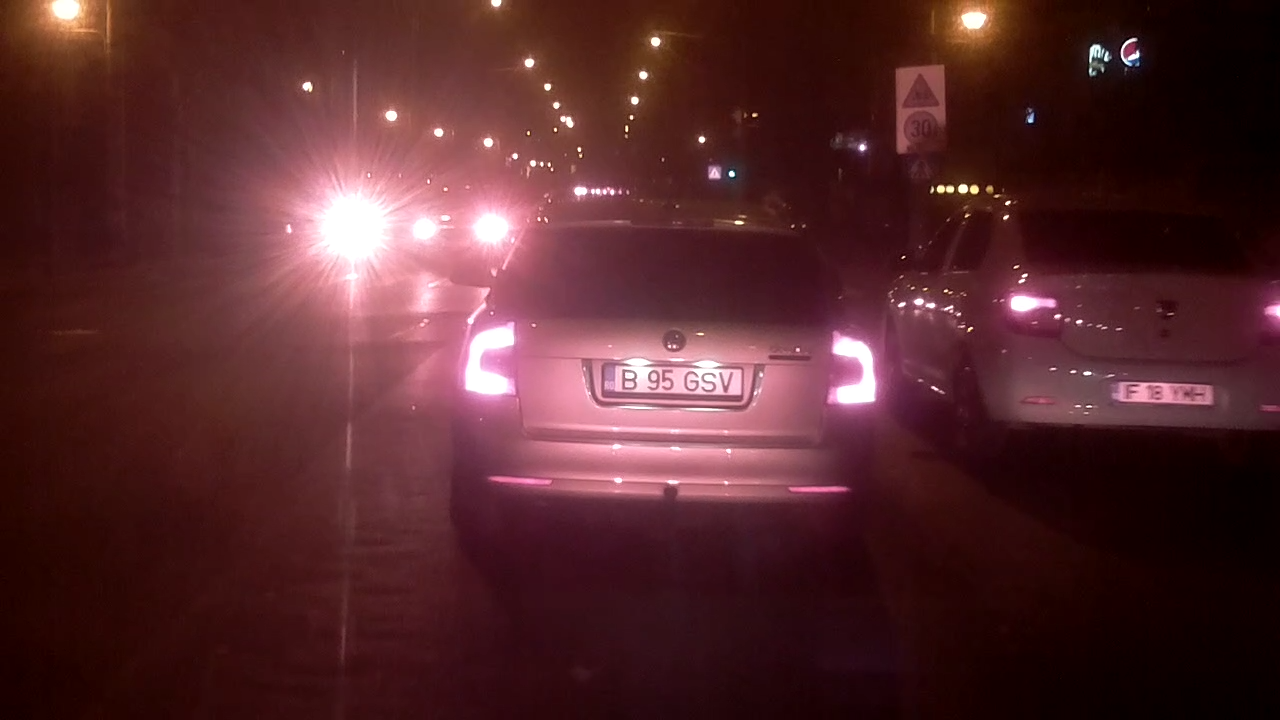license-plate: (597, 356, 747, 402)
